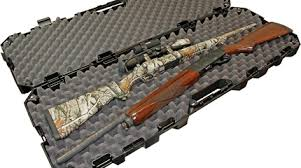gun: (49, 21, 294, 166), (41, 22, 258, 137)
